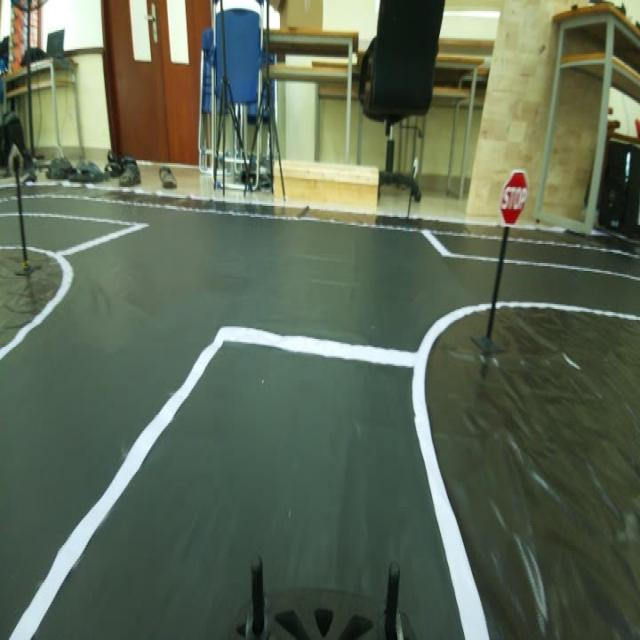stop: (494, 162, 532, 226)
